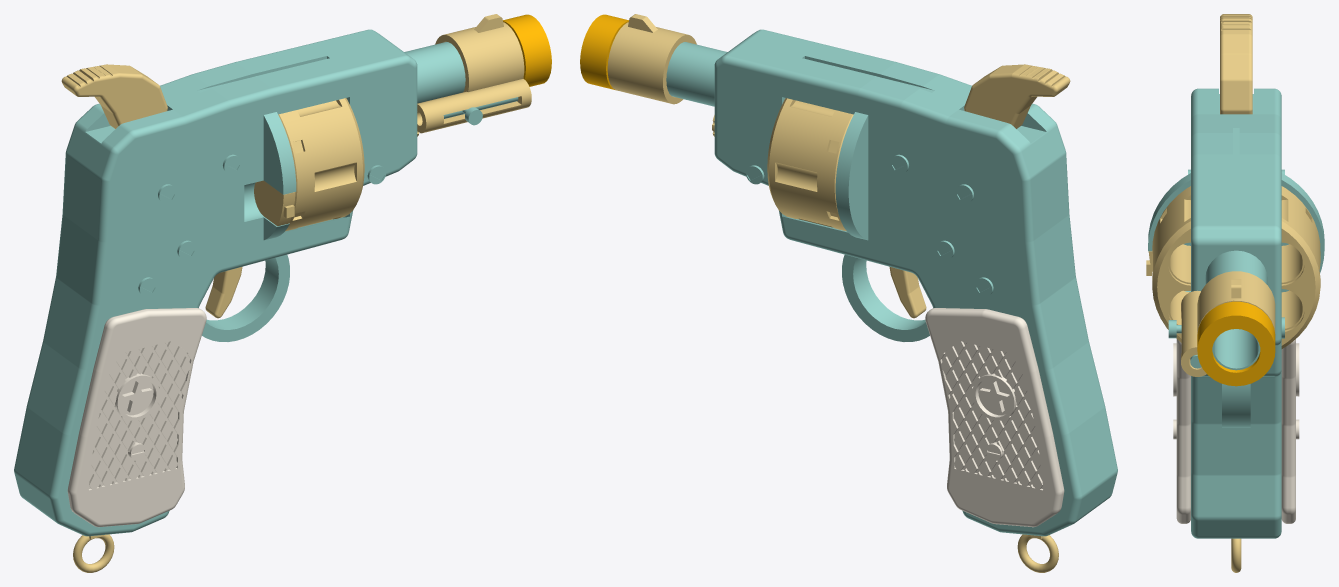
3 renders of one model, left to right at view 1: azimuth 30°, elevation 25°; view 2: azimuth 150°, elevation 25°; view 3: azimuth 270°, elevation 25°, orthographic. The views are drawn at different scales.
Parts seen in each view (by area): view 1: telaio, =>[0:1:1:15], =>[0:1:1:3], manicotto, =>[0:1:1:17], =>[0:1:1:10], =>[0:1:1:23], sportello, =>[0:1:1:20], cordino; view 2: telaio, guancia_sx, =>[0:1:1:3], manicotto, =>[0:1:1:17], =>[0:1:1:10], =>[0:1:1:23], =>[0:1:1:20], cordino; view 3: telaio, =>[0:1:1:3], =>[0:1:1:23], manicotto, =>[0:1:1:17], guancia_sx, =>[0:1:1:10], =>[0:1:1:15], cordino, astina.
Boxes of the visible parts, x1,y1,x2,y2 form: telaio: [14, 29, 417, 536]; =>[0:1:1:15]: [67, 308, 206, 527]; =>[0:1:1:3]: [278, 98, 364, 231]; manicotto: [417, 14, 531, 133]; =>[0:1:1:17]: [61, 64, 167, 128]; =>[0:1:1:10]: [404, 42, 465, 103]; =>[0:1:1:23]: [503, 14, 551, 86]; sportello: [254, 180, 295, 226]; =>[0:1:1:20]: [205, 266, 242, 318]; cordino: [73, 534, 114, 572]; telaio: [714, 29, 1117, 536]; guancia_sx: [925, 308, 1064, 527]; =>[0:1:1:3]: [767, 98, 853, 231]; manicotto: [607, 14, 696, 104]; =>[0:1:1:17]: [964, 64, 1070, 128]; =>[0:1:1:10]: [666, 42, 727, 106]; =>[0:1:1:23]: [580, 14, 628, 89]; =>[0:1:1:20]: [889, 266, 926, 318]; cordino: [1017, 534, 1058, 572]; telaio: [1148, 88, 1324, 538]; =>[0:1:1:3]: [1152, 186, 1320, 348]; =>[0:1:1:23]: [1197, 301, 1275, 386]; manicotto: [1181, 271, 1275, 376]; =>[0:1:1:17]: [1220, 14, 1252, 114]; guancia_sx: [1281, 339, 1299, 523]; =>[0:1:1:10]: [1205, 250, 1267, 370]; =>[0:1:1:15]: [1173, 339, 1190, 523]; cordino: [1231, 538, 1241, 572]; astina: [1168, 320, 1201, 368].
Bounding box in the file's own units: 155 × 147 × 43.38.
